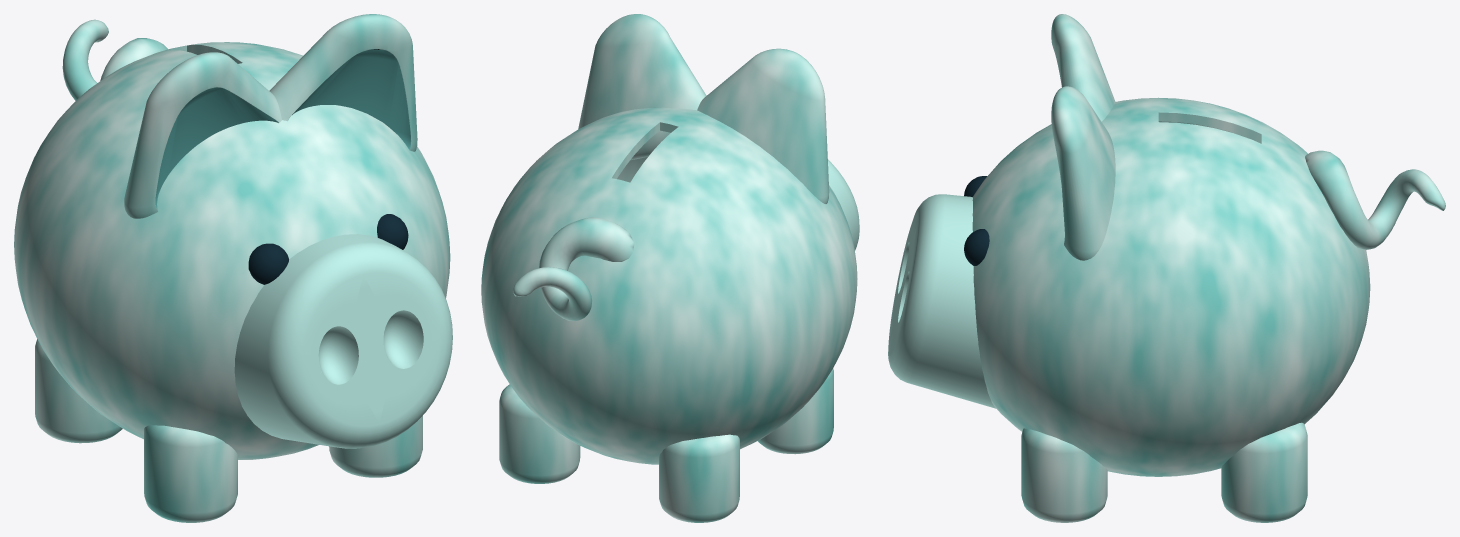
File: ghost-og-v2-complete.fbx
3 renders of one model, left to right at view 1: azimuth 30°, elevation 25°; view 2: azimuth 150°, elevation 25°; view 3: azimuth 270°, elevation 25°, orthographic. The views are drawn at different scales.
Parts seen in each view (by area): view 1: Body, Snout, Ears, Legs, Tail, EyePreview; view 2: Body, Ears, Legs, Tail, Snout; view 3: Body, Snout, Legs, Ears, Tail, EyePreview.
Boxes of the visible parts, bbox=[...] form: Body: bbox=[14, 42, 450, 459]; Snout: bbox=[234, 234, 452, 448]; Ears: bbox=[124, 14, 417, 218]; Legs: bbox=[35, 339, 422, 522]; Tail: bbox=[62, 19, 167, 100]; EyePreview: bbox=[248, 214, 408, 284]; Body: bbox=[481, 107, 857, 464]; Ears: bbox=[578, 14, 829, 203]; Legs: bbox=[499, 368, 833, 522]; Tail: bbox=[513, 217, 634, 321]; Snout: bbox=[828, 159, 859, 250]; Body: bbox=[972, 97, 1370, 476]; Snout: bbox=[888, 194, 996, 408]; Legs: bbox=[1021, 422, 1307, 522]; Ears: bbox=[1051, 14, 1115, 260]; Tail: bbox=[1305, 150, 1445, 249]; EyePreview: bbox=[964, 176, 989, 265].
Size of the model in its own units: 1200 by 1397 by 1708.
3 materials, 2 textured.
